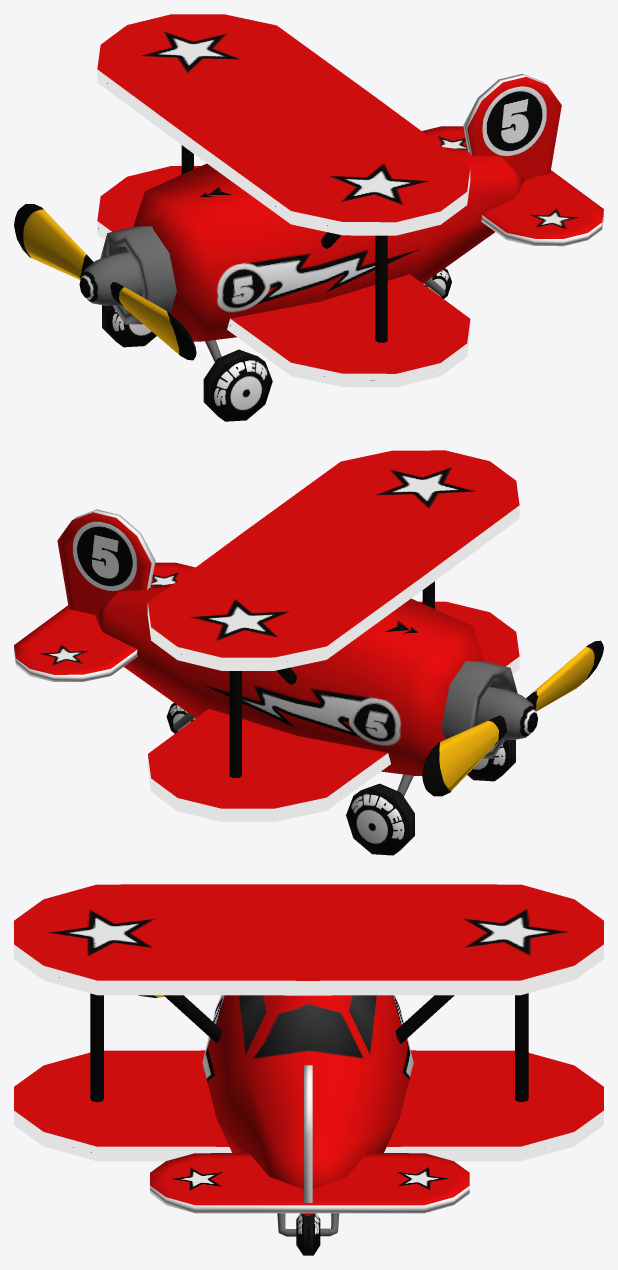
File: toyPlane.fbx
3 views of the same model, one above another, from view 1: azimuth 30°, elevation 25°; view 2: azimuth 150°, elevation 25°; view 3: azimuth 270°, elevation 25° (orthographic). The views are drawn at different scales.
Parts seen in each view (by area): view 1: body2, propeller1; view 2: body2, propeller1; view 3: body2.
Boxes of the visible parts, x1,y1,x2,y2 form: body2: (97,14,603,421); propeller1: (14,204,196,360); body2: (14,450,519,855); propeller1: (422,640,603,796); body2: (14,884,603,1255).
Size of the model in its own units: 12.45 by 5.95 by 12.15.
